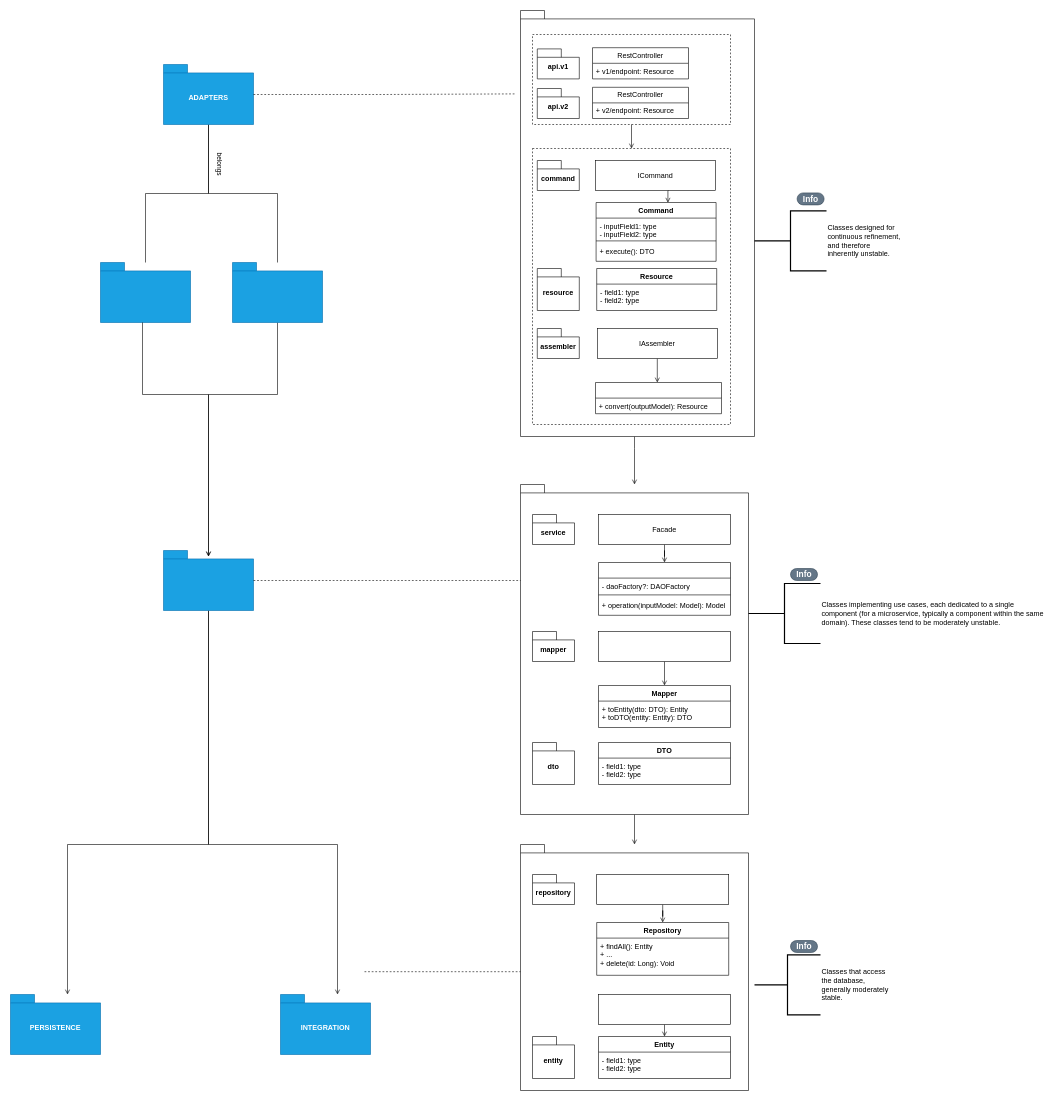
Image size: 1054x1101. Some labels were removed from this diagram. Each missing label, with the box of its shape:
API: (232, 262, 322, 322)
CONSUMER: (100, 262, 190, 322)
CORE: (163, 550, 254, 610)
IEntity: (598, 994, 730, 1024)
IMapper: (598, 631, 730, 662)
JPARepository: (596, 874, 729, 904)
ResourceAssembler: (595, 382, 722, 414)
UseCaseService: (598, 562, 730, 615)
